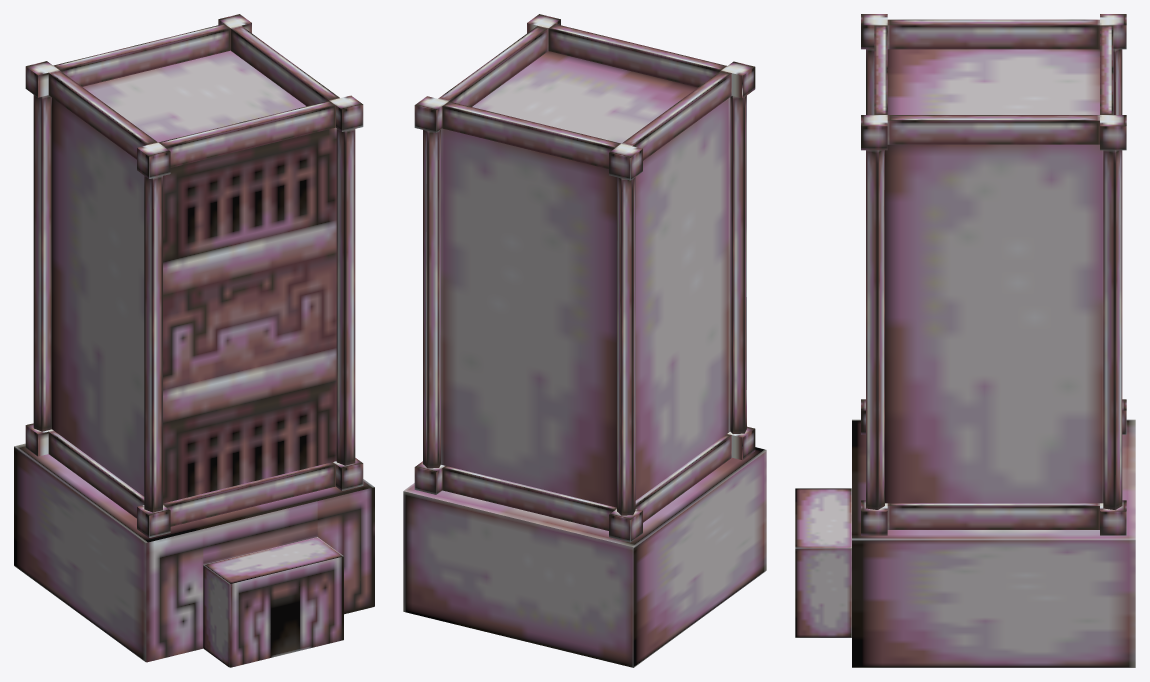
File: Poly_World_Map_Tower_03.obj
3 views of the same model, side by side, from view 1: azimuth 30°, elevation 25°; view 2: azimuth 150°, elevation 25°; view 3: azimuth 270°, elevation 25° (orthographic). The views are drawn at different scales.
Parts seen in each view (by area): view 1: Grid.003, Grid.002, Grid.005, Grid.006, Grid.001; view 2: Grid.003, Grid.002, Grid.005, Grid.006; view 3: Grid.003, Grid.002, Grid.005, Grid.006, Grid.001.
Boxes of the visible parts, bbox=[...] form: Grid.003: bbox=[52, 50, 336, 515]; Grid.002: bbox=[14, 443, 374, 662]; Grid.005: bbox=[25, 14, 363, 537]; Grid.006: bbox=[33, 95, 355, 512]; Grid.001: bbox=[203, 537, 343, 667]; Grid.003: bbox=[441, 51, 730, 507]; Grid.002: bbox=[403, 447, 766, 667]; Grid.005: bbox=[414, 14, 755, 542]; Grid.006: bbox=[423, 95, 746, 515]; Grid.003: bbox=[885, 49, 1103, 511]; Grid.002: bbox=[852, 419, 1135, 667]; Grid.005: bbox=[861, 14, 1126, 535]; Grid.006: bbox=[866, 49, 1122, 509]; Grid.001: bbox=[795, 488, 851, 637].
Bounding box in the file's own units: 1 × 2.09 × 1.2.
1 material, 1 textured.
